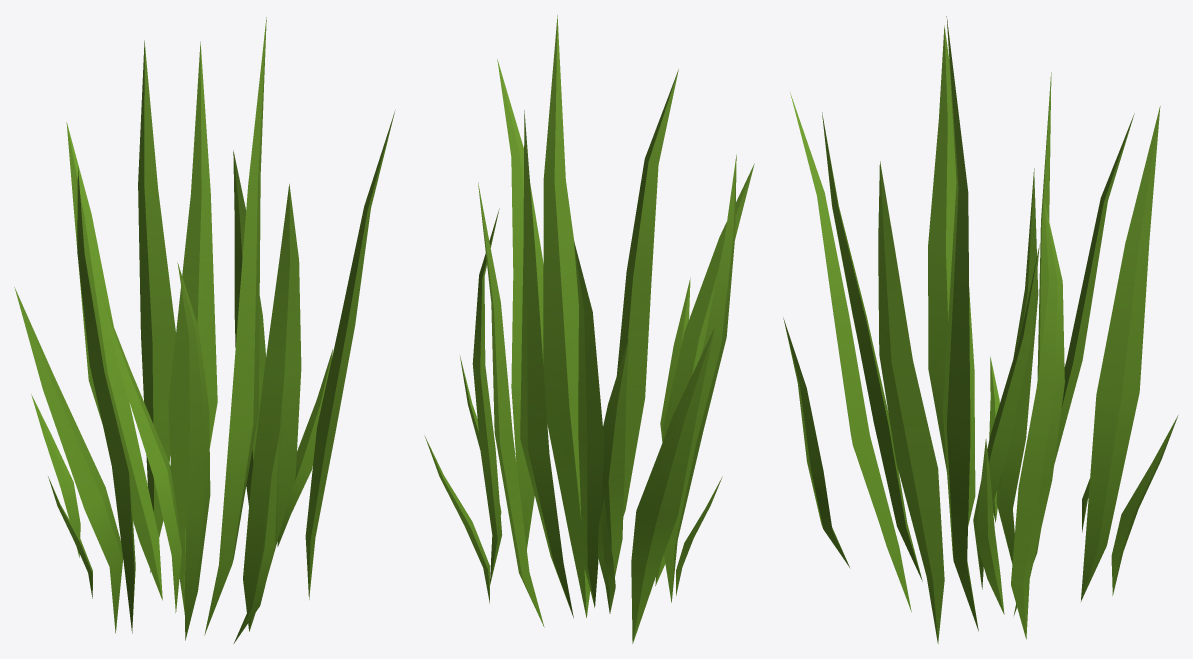
The model's file is Grass_03.fbx.
3 views of the same model, side by side, from view 1: azimuth 30°, elevation 25°; view 2: azimuth 150°, elevation 25°; view 3: azimuth 270°, elevation 25° (orthographic). The views are drawn at different scales.
Visible parts, largest first — view 1: Grass_03; view 2: Grass_03; view 3: Grass_03.
Boxes of the visible parts, <box> form: Grass_03: <box>14,17,395,643</box>; Grass_03: <box>424,15,754,643</box>; Grass_03: <box>783,16,1178,643</box>.
Size of the model in its own units: 50.8 by 98.43 by 55.02.
